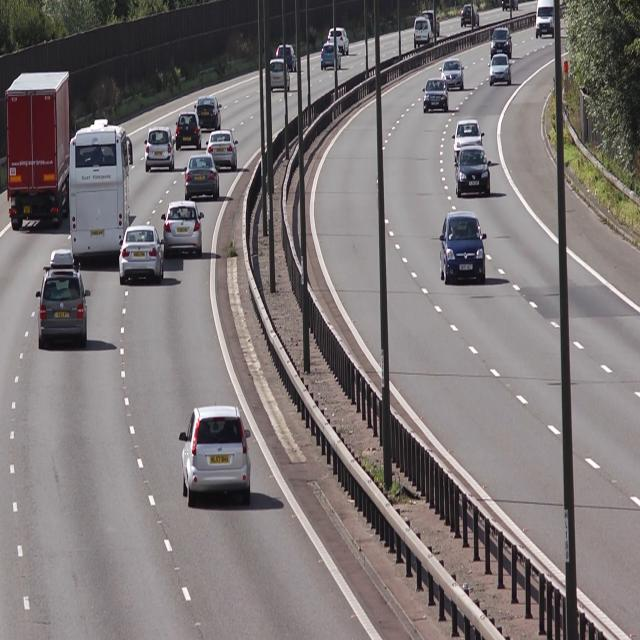Car: (5, 65, 73, 234), (70, 120, 130, 260), (174, 410, 254, 504), (35, 249, 94, 346), (441, 214, 486, 282), (120, 226, 164, 286), (163, 202, 203, 262), (454, 147, 492, 201), (184, 155, 220, 202), (208, 128, 240, 171), (144, 129, 175, 171), (453, 118, 485, 158), (175, 112, 204, 149), (488, 24, 516, 62), (424, 78, 451, 115), (441, 57, 467, 92), (488, 52, 513, 86), (538, 1, 559, 41), (197, 96, 223, 128), (270, 57, 291, 92), (321, 46, 341, 71)
